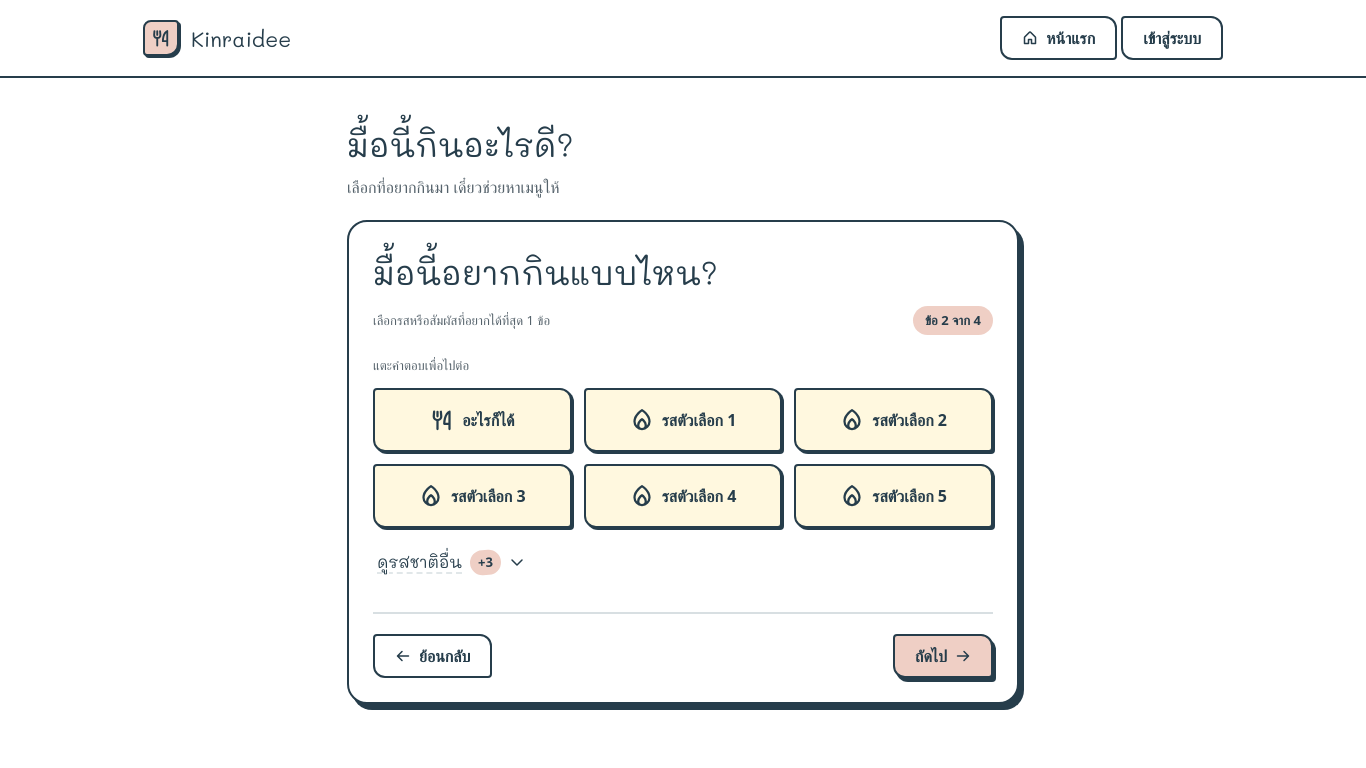
it: Progressive taste and food-type choices › keeps any first and reveals every taste choice without committing an answer
The width and height of the screenshot is (1366, 768).
Check: the radio button labelled "อะไรก็ได้" is empty, box [373,388,572,452]
Click the heading named "ดูรสชาติอื่นอีก 3 ตัวเลือก". click: (451, 562)
box: [373,540,529,584]
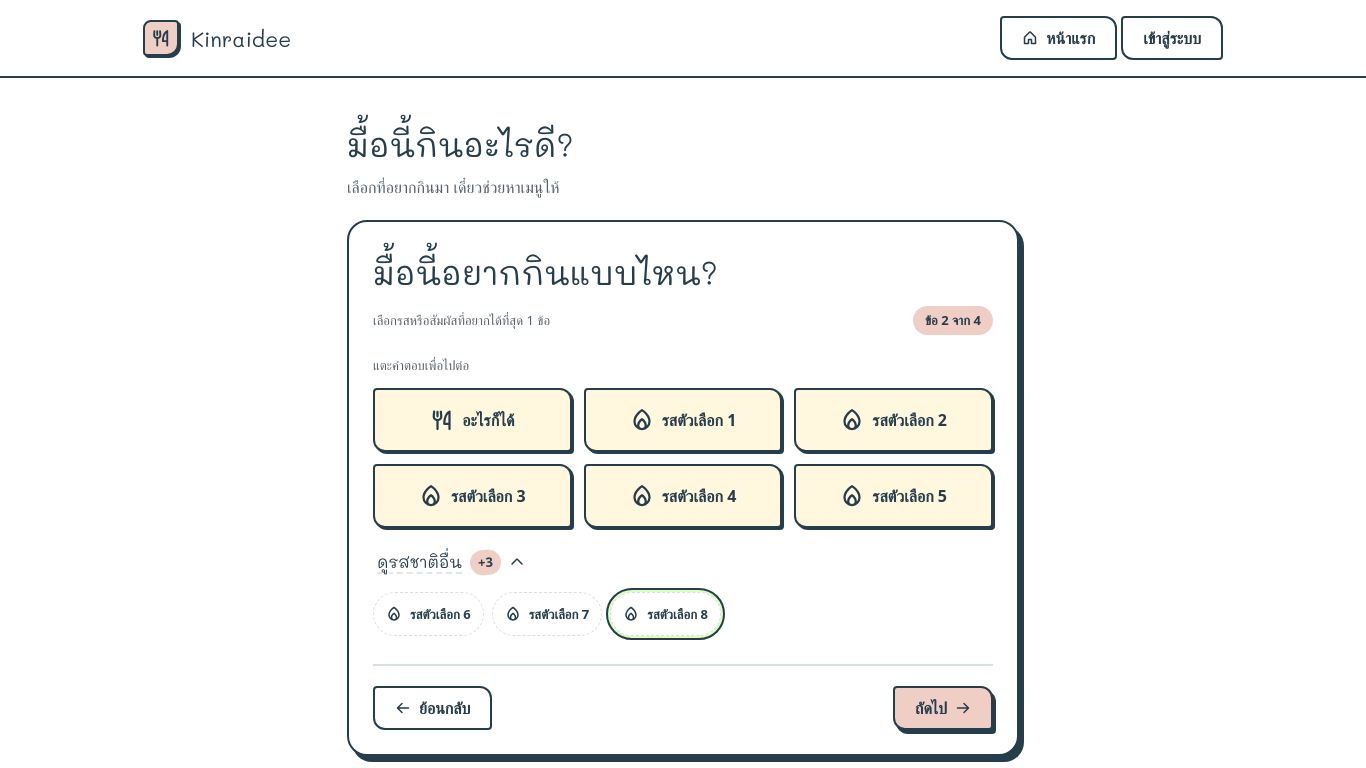
Type keys "[Space]"
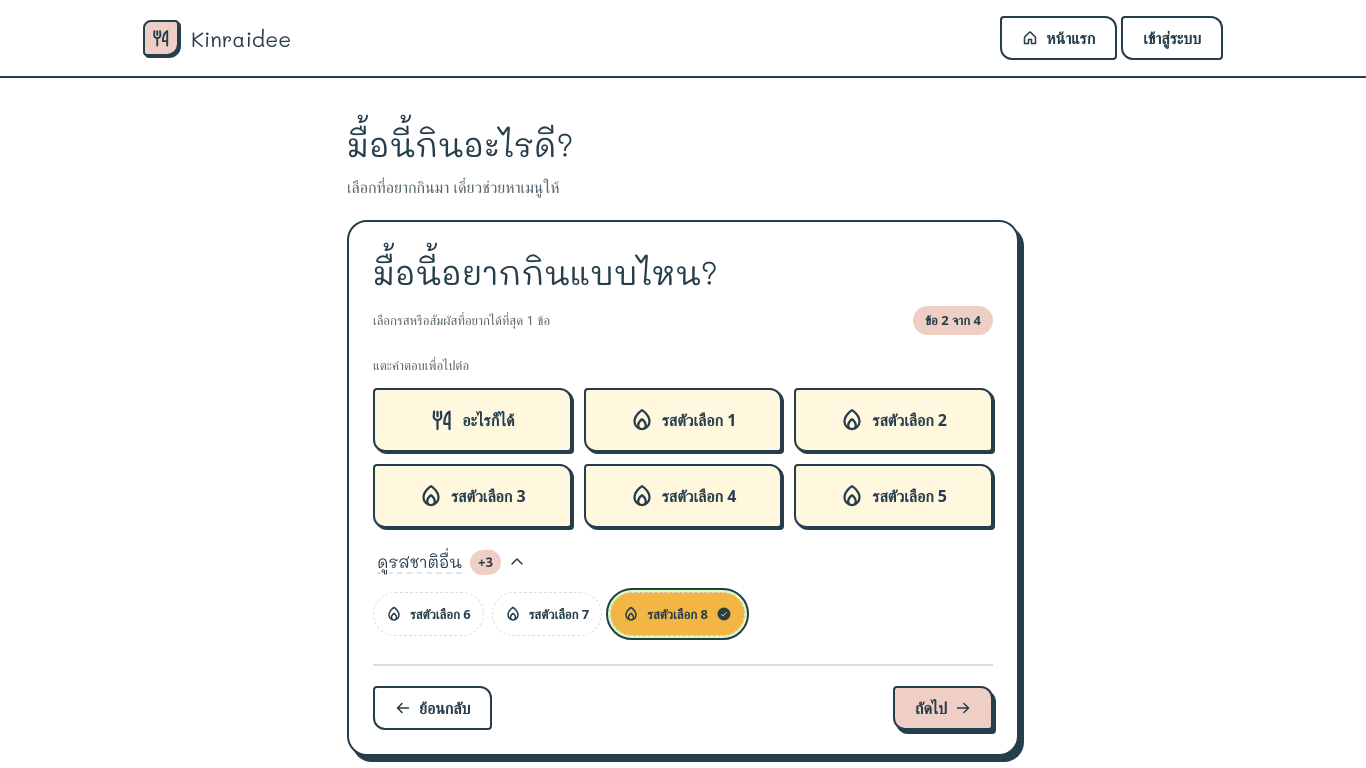
Check: the heading named "ดูรสชาติอื่นอีก 3 ตัวเลือก" is shown, box [373,540,529,584]
Click the button "ถัดไป". click: (943, 708)
box: [893,686,993,730]
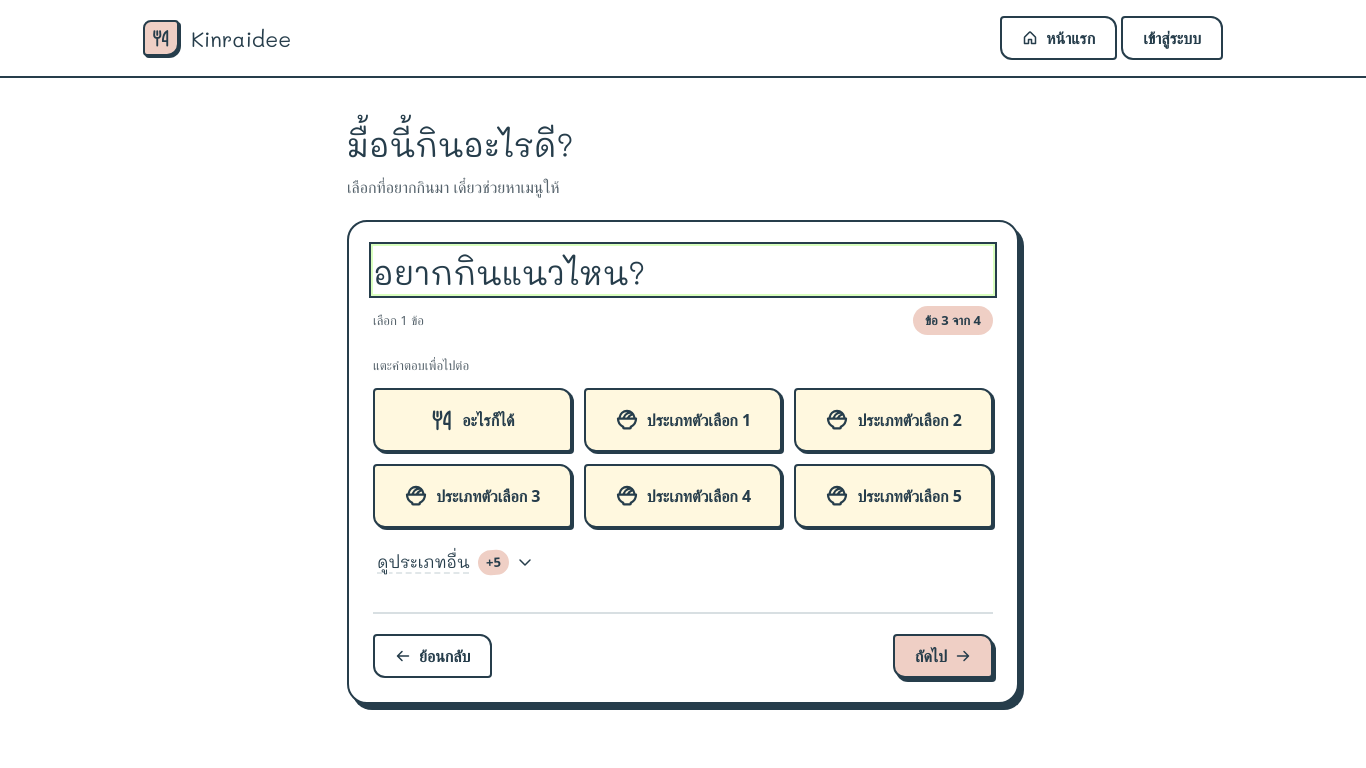
Check: the heading "อยากกินแนวไหน?" is shown, box [373,246,993,294]
Click the button "ย้อนกลับ". click: (433, 656)
box: [373,634,492,678]
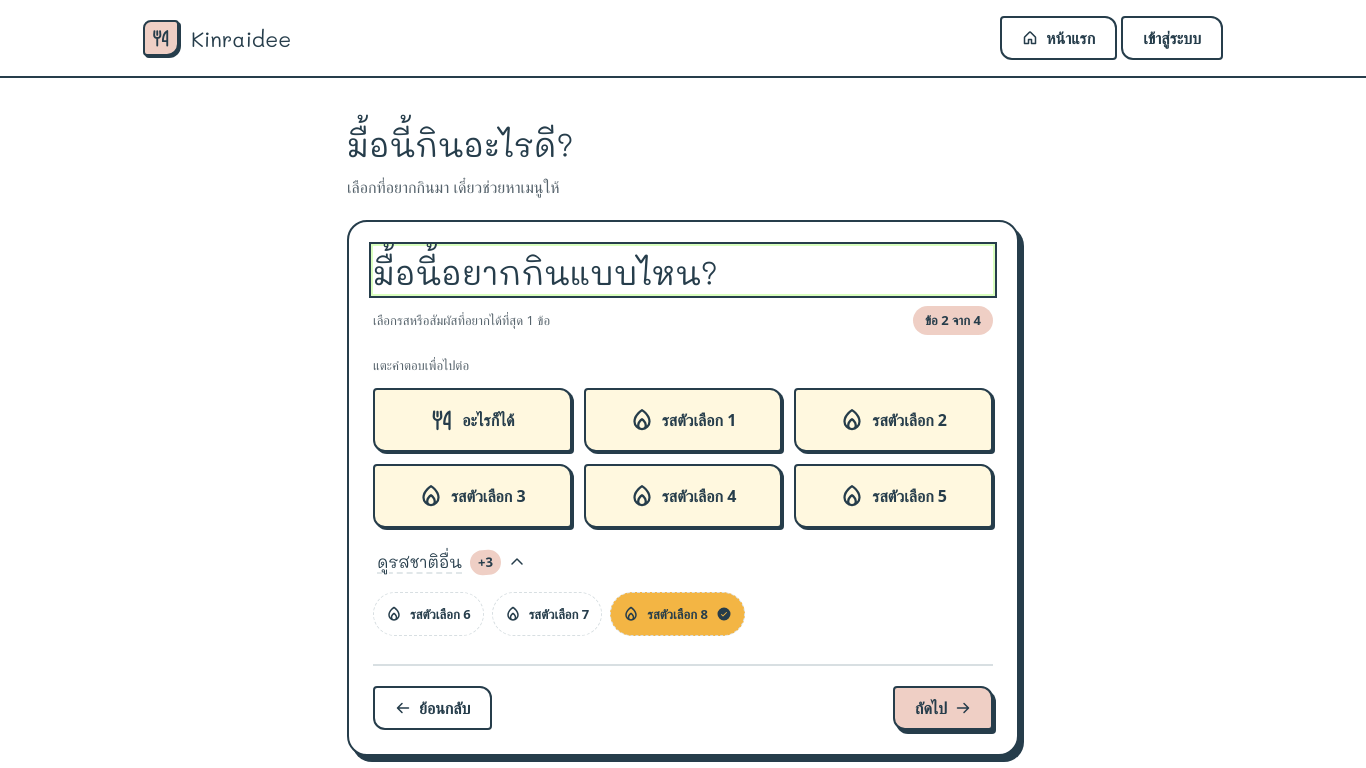
Click the radio button labelled "รสตัวเลือก 8". click: (678, 614)
box: [610,592,745,636]
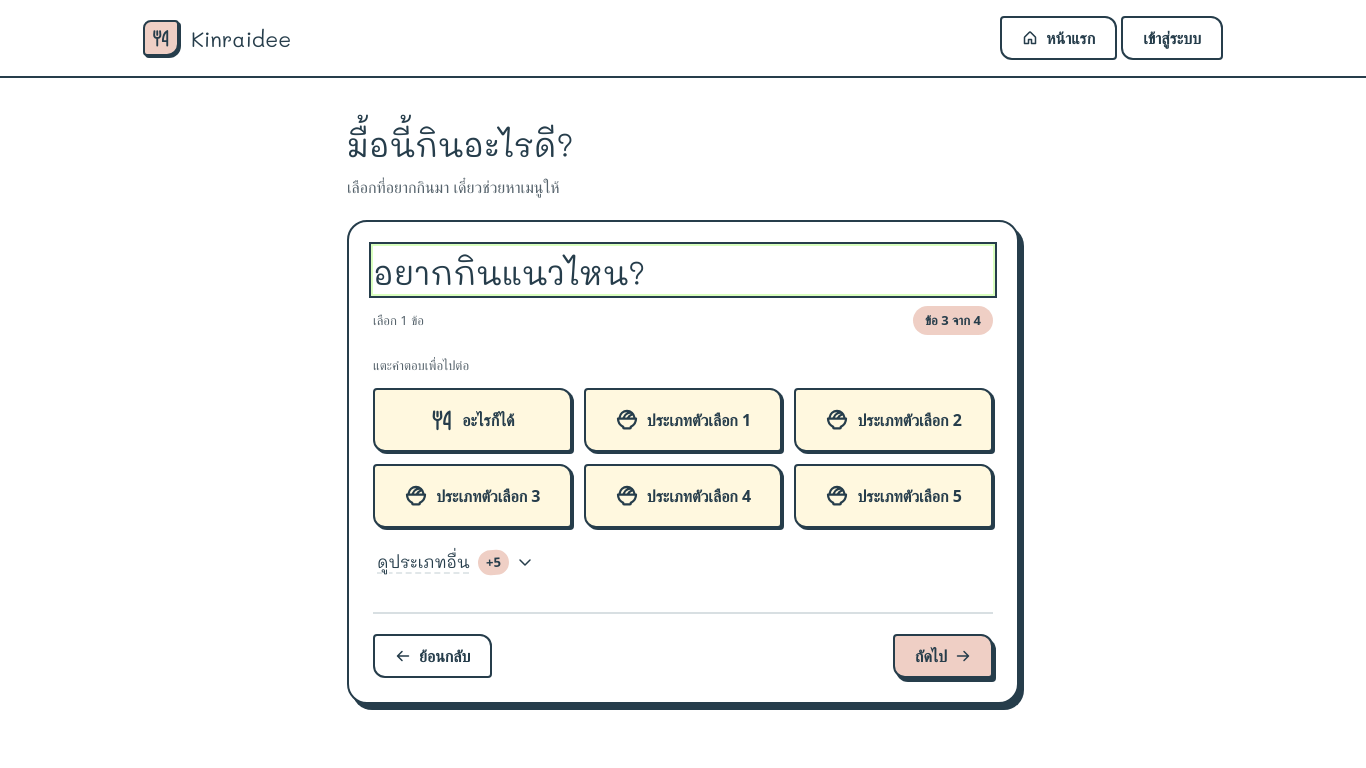
Check: the heading "อยากกินแนวไหน?" is shown, box [373,246,993,294]
